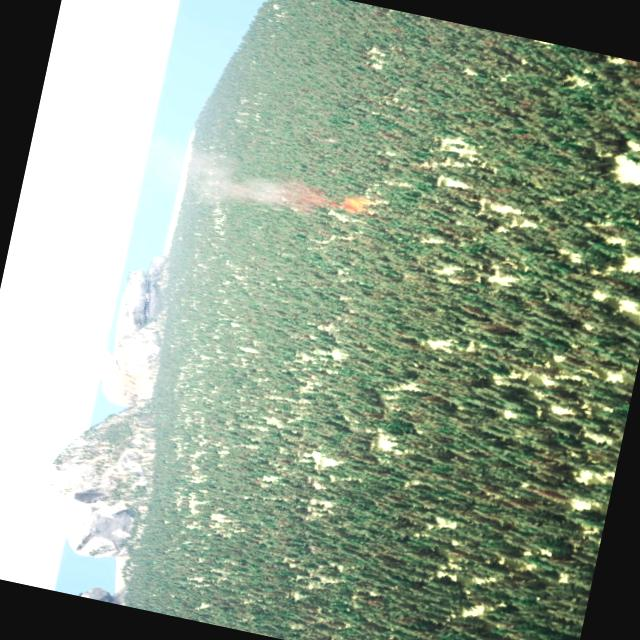fire: (335, 193, 372, 216)
smoke: (176, 151, 336, 221)
